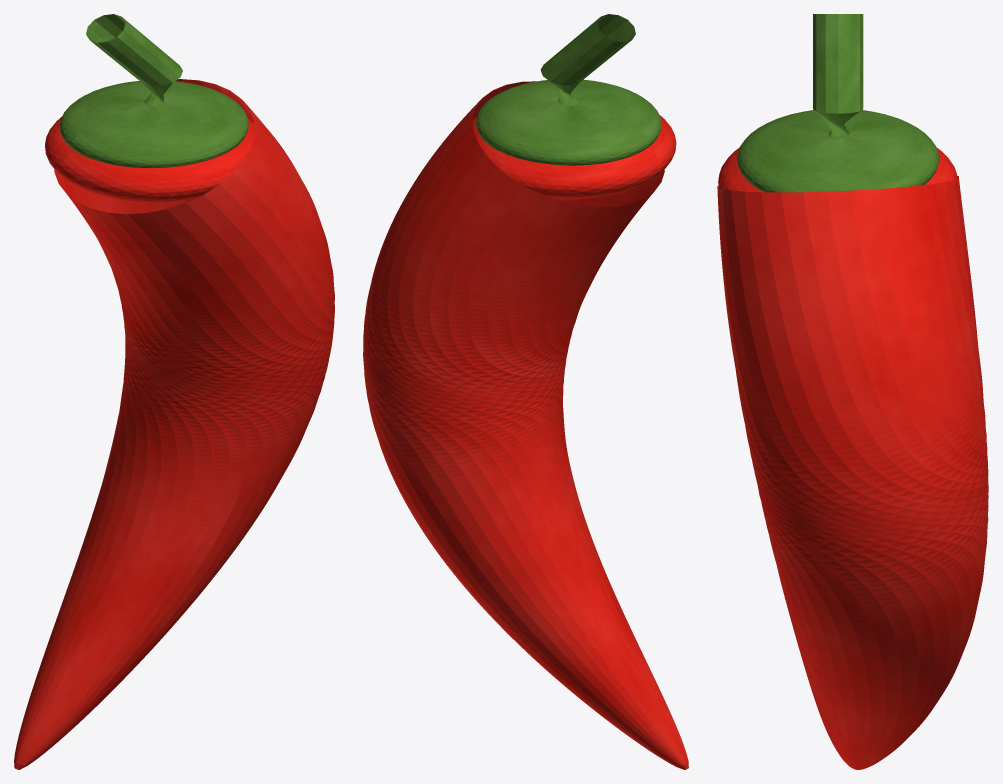
Rendered from pepper-cartoon3.glb.
3 views of the same model, side by side, from view 1: azimuth 30°, elevation 25°; view 2: azimuth 150°, elevation 25°; view 3: azimuth 270°, elevation 25° (orthographic). The views are drawn at different scales.
Visible parts, largest first — view 1: Pepper; view 2: Pepper; view 3: Pepper.
Part boxes in pixels (x1,y1,x2,y2): Pepper: (14, 14, 334, 769); Pepper: (363, 14, 688, 769); Pepper: (717, 14, 988, 769).
Bounding box in the file's own units: 1.2 × 2.71 × 0.8276.
Materials: 2 (2 with a texture image).
